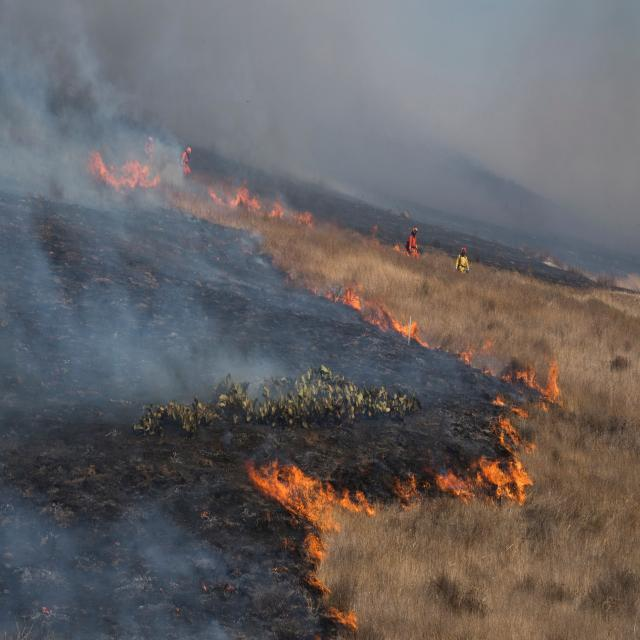Fire: (241, 446, 380, 640), (387, 448, 536, 522), (324, 282, 431, 354), (199, 170, 313, 230), (488, 387, 549, 462), (82, 146, 166, 195), (509, 356, 568, 416)
Smoke: (0, 0, 496, 415), (0, 445, 265, 640)
